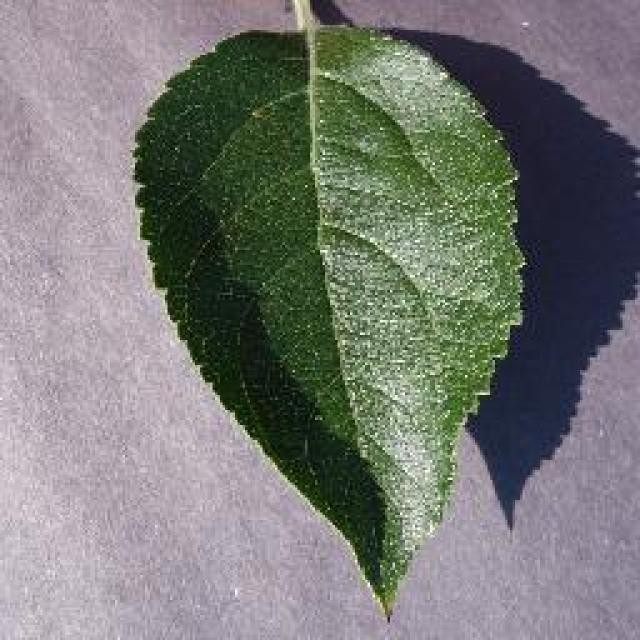apple healthy: (128, 0, 530, 620)
